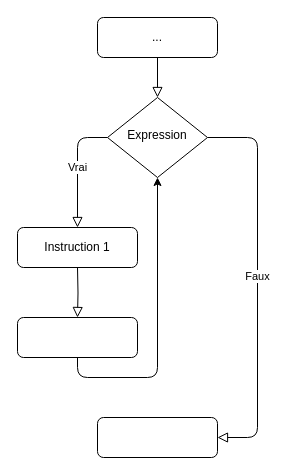
Image size: 287x475. Some labels were removed from this diagram. Here are the shapes that lost their labels. From the top down, the centre of each, then its label:
(x=77, y=337): Instruction 2
(x=157, y=437): Suite Programme
